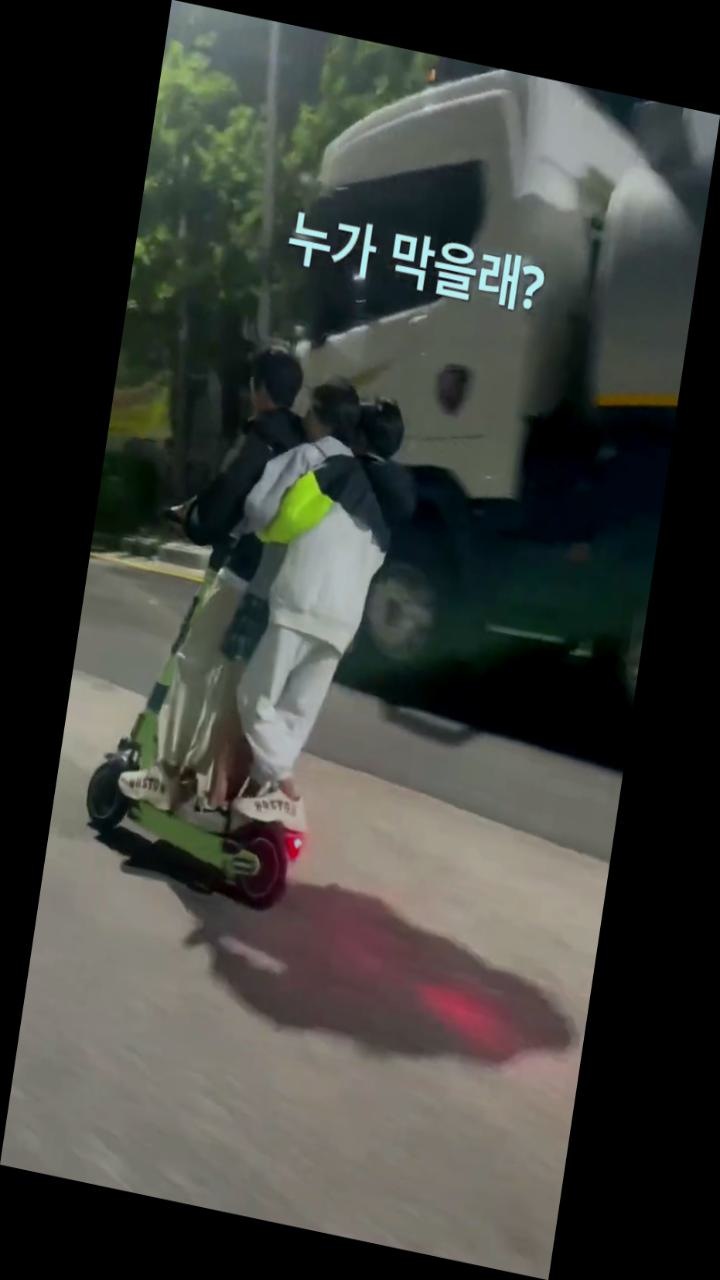multiple: (73, 316, 439, 929)
